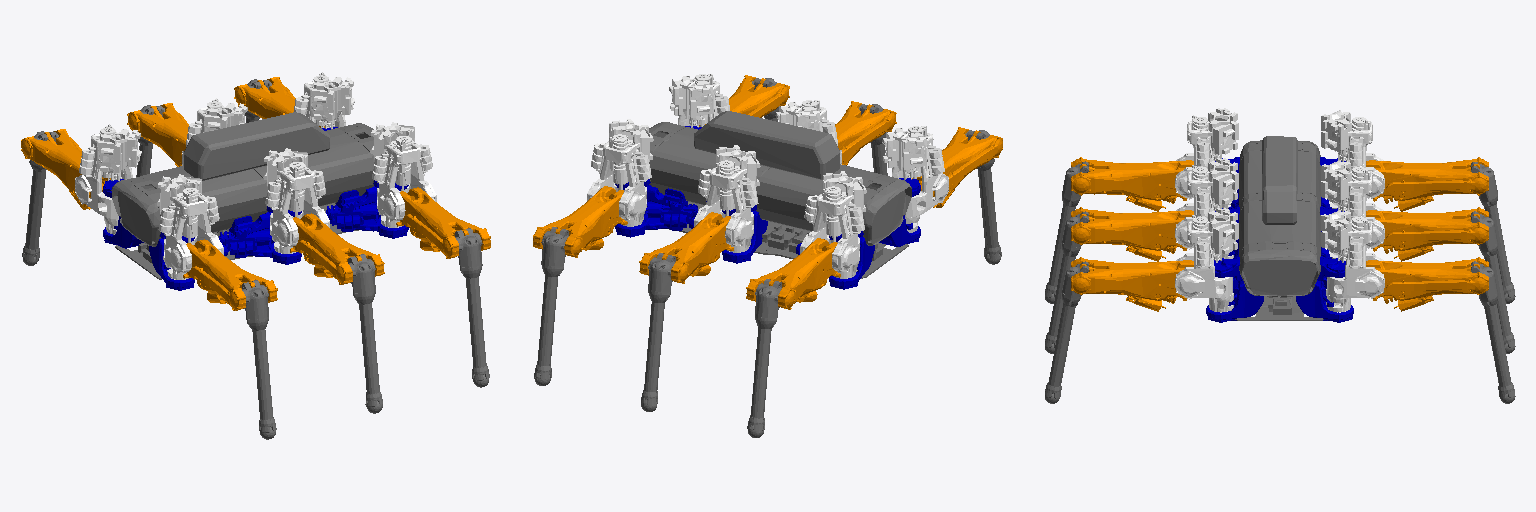
--- Render facts (derived) ---
The picture shows the robot from 3 angles, left to right: view 1: azimuth 30°, elevation 25°; view 2: azimuth 150°, elevation 25°; view 3: azimuth 270°, elevation 25°; orthographic projection.
Model DSH1 with 32 links and 31 joints (18 revolute, 13 fixed), rooted at base_link, posed joints at zero except 6 at the middle of their limits (AR_tibia_joint = 1.4, AL_tibia_joint = 1.4, BR_tibia_joint = 1.4, BL_tibia_joint = 1.4, CR_tibia_joint = 1.4, CL_tibia_joint = 1.4).
Visible links, largest first — view 1: body_link, CR_coxa_link, BR_coxa_link, AR_coxa_link, CL_coxa_link, BR_femur_link, AR_femur_link, CR_femur_link, AR_tibia_link, CR_tibia_link, BR_tibia_link, AL_coxa_link (+10 smaller); view 2: body_link, CL_coxa_link, BL_coxa_link, AL_coxa_link, CR_coxa_link, AL_femur_link, BL_femur_link, CL_femur_link, AL_tibia_link, BL_tibia_link, CL_tibia_link, AR_coxa_link (+10 smaller); view 3: body_link, AR_coxa_link, AL_coxa_link, AR_femur_link, CR_femur_link, BR_femur_link, AL_femur_link, CL_femur_link, BL_femur_link, BR_coxa_link, CR_coxa_link, CL_coxa_link (+9 smaller).
Boxes of the visible links, left/top/right/bottom form: body_link: left=111, top=112, right=374, bottom=279; CR_coxa_link: left=157, top=174, right=223, bottom=279; BR_coxa_link: left=263, top=148, right=329, bottom=253; AR_coxa_link: left=370, top=122, right=436, bottom=227; CL_coxa_link: left=75, top=124, right=141, bottom=234; BR_femur_link: left=290, top=213, right=384, bottom=284; AR_femur_link: left=396, top=187, right=490, bottom=258; CR_femur_link: left=183, top=239, right=277, bottom=310; AR_tibia_link: left=455, top=228, right=489, bottom=387; CR_tibia_link: left=242, top=280, right=276, bottom=438; BR_tibia_link: left=348, top=254, right=382, bottom=413; AL_coxa_link: left=294, top=72, right=354, bottom=128; body_link: left=649, top=111, right=911, bottom=278; CL_coxa_link: left=800, top=171, right=866, bottom=278; BL_coxa_link: left=694, top=145, right=760, bottom=252; AL_coxa_link: left=587, top=119, right=653, bottom=226; CR_coxa_link: left=882, top=126, right=948, bottom=232; AL_femur_link: left=533, top=186, right=627, bottom=257; BL_femur_link: left=639, top=212, right=733, bottom=283; CL_femur_link: left=746, top=238, right=840, bottom=309; AL_tibia_link: left=534, top=227, right=568, bottom=385; BL_tibia_link: left=641, top=253, right=675, bottom=411; CL_tibia_link: left=747, top=279, right=781, bottom=437; AR_coxa_link: left=669, top=74, right=729, bottom=127; body_link: left=1235, top=136, right=1323, bottom=320; AR_coxa_link: left=1175, top=208, right=1238, bottom=312; AL_coxa_link: left=1321, top=210, right=1384, bottom=312; AR_femur_link: left=1071, top=257, right=1193, bottom=311; CR_femur_link: left=1071, top=157, right=1193, bottom=211; BR_femur_link: left=1071, top=207, right=1193, bottom=261; AL_femur_link: left=1366, top=257, right=1488, bottom=311; CL_femur_link: left=1366, top=157, right=1488, bottom=211; BL_femur_link: left=1366, top=207, right=1488, bottom=261; BR_coxa_link: left=1175, top=158, right=1238, bottom=258; CR_coxa_link: left=1175, top=108, right=1238, bottom=208; CL_coxa_link: left=1321, top=110, right=1384, bottom=208.
Size in the robot's own frame: 0.7669 by 1.2 by 0.5363 metres.
Meshes: 7 distinct files referenced, 25 mesh visuals loaded (7 Collada DAE).

URDF robot description (DSH1):
<?xml version="1.0" ?>
<!-- =================================================================================== -->
<!-- |    This document was autogenerated by xacro from apptronik_minimal.xacro        | -->
<!-- |    EDITING THIS FILE BY HAND IS NOT RECOMMENDED                                 | -->
<!-- =================================================================================== -->
<!-- Written by Ryan Steindl <[email redacted]> -->
<!-- August 2018 -->
<!-- data61, CSIRO (AU) -->
<!-- Note: order of includes matters! -->
<robot name="DSH1" xmlns:xacro="http://www.ros.org/wiki/xacro">
  <!-- Material colorization not working like desired, check out: -->
  <!-- http://gazebosim.org/tutorials/?tut=ros_urdf#Materials:Usingpropercolorsandtextures -->
  <!-- or -->
  <!-- https://bitbucket.org/osrf/gazebo/src/default/media/materials/scripts/gazebo.material?fileviewer=file-view-default -->
  <!-- 	<xacro:property name="pi" value="3.14159" /> -->
  <!-- Main body parameters -->
  <!-- body coxa link parameters -->
  <gazebo>
    <plugin filename="libgazebo_ros_control.so" name="gazebo_ros_control">
      <robotDescription>DSH1_description</robotDescription>
      <robotBaseLink>base_link</robotBaseLink>
      <statePublisherRate>1000.0</statePublisherRate>
    </plugin>
  </gazebo>
  <!-- Main body -->
  <!-- Base -->
  <link name="base_link">
    <inertial>
      <origin rpy="0 0 0" xyz="-0.00131 3e-05 0.07014"/>
      <mass value="0.005"/>
      <inertia ixx="0.0001" ixy="0.0001" ixz="0.0001" iyy="0.0001" iyz="0.0001" izz="0.0001"/>
    </inertial>
  </link>
  <link name="body_link">
    <visual>
      <origin rpy="0 0 0" xyz="0 0 0"/>
      <geometry>
        <mesh filename="package://meshes/ASM_DSH1_Body.dae"/>
      </geometry>
      <material name="grey">
        <color rgba="0.5 0.5 0.5 1"/>
      </material>
    </visual>
    <collision>
      <origin rpy="0 0 0" xyz="0 0 0.06"/>
      <geometry>
        <box size="0.7 0.24 0.12"/>
        <!--<mesh filename="${meshes_path}/ASM_Amazon_Body.dae" />-->
      </geometry>
    </collision>
    <inertial>
      <origin rpy="0 0 0" xyz="-0.00131 3e-05 0.07014"/>
      <mass value="7.6369"/>
      <inertia ixx="0.18873809131" ixy="-0.002190442" ixz="-0.00039570904" iyy="0.2495218632" iyz="-3.738463e-05" izz="0.1889091132"/>
    </inertial>
  </link>
  <joint name="body_joint" type="fixed">
    <parent link="base_link"/>
    <child link="body_link"/>
  </joint>
  <gazebo reference="body_link">
    <mu1>1.6</mu1>
    <mu2>1.6</mu2>
    <kp>1000000.0</kp>
    <kd>100.0</kd>
    <material>Gazebo/Grey</material>
    <selfCollide>True</selfCollide>
    <gravity>True</gravity>
  </gazebo>
  <!-- Body Coxa link -->
  <link name="AR_body_coxa_link">
    <visual>
      <origin rpy="0 0 0" xyz="0 0 0"/>
      <geometry>
        <!-- Normal corner configuration (AR & CL) -->
        <mesh filename="package://meshes/ASM_Body_Coxa_AR.dae"/>
      </geometry>
      <material name="blue">
        <color rgba="0 0 .8 1"/>
      </material>
    </visual>
    <collision>
      <origin rpy="0 0 0" xyz="0 -0.075 -0.015"/>
      <geometry>
        <box size="0.060 0.150 0.120"/>
        <!--<mesh filename="${meshes_path}/ASM_Body_Coxa_.dae" />-->
      </geometry>
    </collision>
    <inertial>
      <origin rpy="0 0 0" xyz="-0.05787 -0.09098 -0.02347"/>
      <mass value="1.49648"/>
      <inertia ixx="0.00237058393" ixy="-0.00037947708" ixz="0.00030252466" iyy="0.00404381682" iyz="-0.00014024756" izz="0.00433874382"/>
    </inertial>
  </link>
  <!-- Gazebo properties -->
  <gazebo reference="AR_body_coxa_link">
    <mu1>1.6</mu1>
    <mu2>1.6</mu2>
    <kp>1000000.0</kp>
    <kd>100.0</kd>
    <material>Gazebo/Blue</material>
    <selfCollide>True</selfCollide>
    <gravity>True</gravity>
  </gazebo>
  <!-- Body Coxa joint -->
  <joint name="ARbody_coxa_joint" type="fixed">
    <origin rpy="0 0 0.0" xyz="0.3 -0.0 0.0"/>
    <parent link="base_link"/>
    <child link="AR_body_coxa_link"/>
  </joint>
  <!-- Coxa link -->
  <link name="AR_coxa_link">
    <visual>
      <origin rpy="0 0 0" xyz="0 0 0"/>
      <geometry>
        <mesh filename="package://meshes/ASM_Coxa.dae"/>
      </geometry>
      <material name="white">
        <color rgba="1 1 1 1"/>
      </material>
    </visual>
    <collision>
      <origin rpy="0 0 0" xyz="0.032 0 0.062"/>
      <geometry>
        <box size="0.096 0.115 0.206"/>
        <!--<mesh filename="${meshes_path}/ASM_Coxa.dae" />-->
      </geometry>
    </collision>
    <inertial>
      <origin rpy="0 0 0" xyz="0.02698 -0.00028 0.0643"/>
      <mass value="2.40582"/>
      <inertia ixx="0.01288731354" ixy="-4.028532e-05" ixz="0.00060423369" iyy="0.0125301198" iyz="-4.000394e-05" izz="0.00456150593"/>
    </inertial>
  </link>
  <!-- Gazebo properties -->
  <gazebo reference="AR_coxa_link">
    <mu1>1.6</mu1>
    <mu2>1.6</mu2>
    <kp>1000000.0</kp>
    <kd>100.0</kd>
    <material>Gazebo/White</material>
    <selfCollide>True</selfCollide>
    <gravity>True</gravity>
  </gazebo>
  <!-- Coxa joint -->
  <joint name="AR_coxa_joint" type="revolute">
    <origin rpy="0.0 0.0 4.7123" xyz="0.0 -0.150 0.040"/>
    <parent link="AR_body_coxa_link"/>
    <child link="AR_coxa_link"/>
    <axis xyz="0 0 1"/>
    <!-- Normal corner configuration (AR & CL) -->
    <limit effort="75.0" lower="-0.6" upper="0.9" velocity="11.0"/>
    <dynamics damping="0.5" friction="0.0"/>
  </joint>
  <transmission name="AR_coxa_tran">
    <type>transmission_interface/SimpleTransmission</type>
    <joint name="AR_coxa_joint">
      <hardwareInterface>hardware_interface/EffortJointInterface</hardwareInterface>
    </joint>
    <actuator name="AR_coxa_motor">
      <hardwareInterface>hardware_interface/EffortJointInterface</hardwareInterface>
      <mechanicalReduction>1</mechanicalReduction>
    </actuator>
  </transmission>
  <!-- Femur link -->
  <link name="AR_femur_link">
    <visual>
      <origin rpy="0 0 0" xyz="0 0 0"/>
      <geometry>
        <mesh filename="package://meshes/ASM_Femur.dae"/>
      </geometry>
      <material name="orange">
        <color rgba="1 0.6 0 1"/>
      </material>
    </visual>
    <collision>
      <origin rpy="0 0 0" xyz="0.120 0.034 0.0"/>
      <geometry>
        <box size="0.240 0.112 0.115"/>
        <!-- <mesh filename="${meshes_path}/ASM_Femur.dae" /> -->
      </geometry>
    </collision>
    <inertial>
      <origin rpy="0 0 0" xyz="0.09968 0.02632 0.00017"/>
      <mass value="1.59736"/>
      <inertia ixx="0.00220546264" ixy="-0.00018851889" ixz="6.874375e-05" iyy="0.00860408815" iyz="-2.201149e-05" izz="0.00924003917"/>
    </inertial>
  </link>
  <!-- Gazebo properties -->
  <gazebo reference="AR_femur_link">
    <mu1>1.6</mu1>
    <mu2>1.6</mu2>
    <kp>1000000.0</kp>
    <kd>100.0</kd>
    <material>Gazebo/Orange</material>
    <selfCollide>True</selfCollide>
    <gravity>True</gravity>
  </gazebo>
  <!-- Femur joint -->
  <joint name="AR_femur_joint" type="revolute">
    <origin rpy="-1.5708 0 0" xyz="0.08 0 0.0"/>
    <parent link="AR_coxa_link"/>
    <child link="AR_femur_link"/>
    <axis xyz="0 0 1"/>
    <limit effort="75.0" lower="-1.1" upper="0.6" velocity="8.0"/>
    <dynamics damping="0.5" friction="0.0"/>
  </joint>
  <transmission name="AR_femur_tran">
    <type>transmission_interface/SimpleTransmission</type>
    <joint name="AR_femur_joint">
      <hardwareInterface>hardware_interface/EffortJointInterface</hardwareInterface>
    </joint>
    <actuator name="AR_femur_motor">
      <hardwareInterface>hardware_interface/EffortJointInterface</hardwareInterface>
      <mechanicalReduction>1</mechanicalReduction>
    </actuator>
  </transmission>
  <!-- Tibia link -->
  <link name="AR_tibia_link">
    <visual>
      <origin rpy="0 0 0" xyz="0 0 0"/>
      <geometry>
        <mesh filename="package://meshes/ASM_Tibia.dae"/>
      </geometry>
      <material name="grey">
        <color rgba="0.5 0.5 0.5 1"/>
      </material>
    </visual>
    <collision name="AR_tibia_link_collision">
      <origin rpy="0 1.5708 0" xyz="0.164 -0.015 0"/>
      <geometry>
        <cylinder length="0.244" radius="0.016"/>
        <!--<mesh filename="${meshes_path}/ASM_Tibia.dae" />-->
      </geometry>
    </collision>
    <inertial>
      <origin rpy="0 0 0" xyz="0.0675 -0.00776 0.00154"/>
      <mass value="0.4159"/>
      <inertia ixx="0.00040546855" ixy="-0.00020546604" ixz="-4.283075e-05" iyy="0.00584163406" iyz="4.84805e-06" izz="0.00560713232"/>
    </inertial>
  </link>
  <!-- Gazebo properties -->
  <gazebo reference="AR_tibia_link">
    <mu1>1.6</mu1>
    <mu2>1.6</mu2>
    <kp>1000000.0</kp>
    <kd>100.0</kd>
    <material>Gazebo/Grey</material>
    <!-- 			<selfCollide>True</selfCollide> -->
    <!-- 			<gravity>True</gravity> -->
  </gazebo>
  <!-- Tibia joint -->
  <joint name="AR_tibia_joint" type="revolute">
    <origin rpy="0 0 0" xyz="0.275 0 0"/>
    <parent link="AR_femur_link"/>
    <child link="AR_tibia_link"/>
    <axis xyz="0 0 1"/>
    <limit effort="75.0" lower="0.4" upper="2.4" velocity="11.0"/>
    <dynamics damping="0.5" friction="0.0"/>
  </joint>
  <transmission name="AR_tibia_tran">
    <type>transmission_interface/SimpleTransmission</type>
    <joint name="AR_tibia_joint">
      <hardwareInterface>hardware_interface/EffortJointInterface</hardwareInterface>
    </joint>
    <actuator name="AR_tibia_motor">
      <hardwareInterface>hardware_interface/EffortJointInterface</hardwareInterface>
      <mechanicalReduction>1</mechanicalReduction>
    </actuator>
  </transmission>
  <!-- Foot link, use sphere for enhancening collision properties, speeds up simulation! -->
  <link name="AR_foot_link">
    <visual>
      <geometry>
        <!--<mesh filename="${meshes_path}/AL_foot_link.dae" />-->
        <sphere radius="0.02"/>
        <!-- <sphere radius="0.03"/> -->
        <!-- <box size="0.05, 0.05, 0.05"/> -->
        <!-- <cylinder length="0.16" radius="0.035"/> -->
      </geometry>
      <origin rpy="0 0 0" xyz="0 0 0"/>
      <material name="grey">
        <color rgba="0.5 0.5 0.5 1"/>
      </material>
    </visual>
    <collision name="AR_foot_link_collision">
      <geometry>
        <sphere radius="0.02"/>
        <!-- <sphere radius="0.03"/> -->
        <!-- <box size="0.05, 0.05, 0.05"/> -->
        <!-- <cylinder length="0.16" radius="0.035"/> -->
      </geometry>
      <origin rpy="0 0 0" xyz="0 0 0"/>
    </collision>
    <inertial>
      <origin rpy="0 0 0" xyz="0 0 0"/>
      <mass value="0.0258"/>
      <inertia ixx="0" ixy="0" ixz="0" iyy="0" iyz="0" izz="0"/>
    </inertial>
  </link>
  <!-- Gazebo properties -->
  <gazebo reference="AR_foot_link">
    <mu1>1.6</mu1>
    <mu2>1.6</mu2>
    <kp>1000000.0</kp>
    <kd>100.0</kd>
    <material>Gazebo/Grey</material>
    <!-- 			<selfCollide>True</selfCollide> -->
    <!-- 			<gravity>True</gravity> -->
  </gazebo>
  <!-- Foot joint -->
  <joint name="AR_foot_joint" type="fixed">
    <!-- old without optoforce sensors xyz="1.521 0.12 0" -->
    <!-- new with optoforce sensors xyz="1.565 0.12 0" -->
    <origin rpy="0 0 0" xyz="0.343 -0.015 0"/>
    <parent link="AR_tibia_link"/>
    <child link="AR_foot_link"/>
    <axis xyz="0 0 0"/>
  </joint>
  <!-- Body Coxa link -->
  <link name="AL_body_coxa_link">
    <visual>
      <origin rpy="0 0 0" xyz="0 0 0"/>
      <geometry>
        <!-- Mirrored corner configuration (AL & CR) -->
        <mesh filename="package://meshes/ASM_Body_Coxa_CR.dae"/>
      </geometry>
      <material name="blue">
        <color rgba="0 0 .8 1"/>
      </material>
    </visual>
    <collision>
      <origin rpy="0 0 0" xyz="0 -0.075 -0.015"/>
      <geometry>
        <box size="0.060 0.150 0.120"/>
        <!--<mesh filename="${meshes_path}/ASM_Body_Coxa_.dae" />-->
      </geometry>
    </collision>
    <inertial>
      <origin rpy="0 0 0" xyz="0.05785 -0.09052 -0.0229"/>
      <mass value="1.49649"/>
      <inertia ixx="0.0023650205" ixy="0.0003700191" ixz="-0.00026263152" iyy="0.00404922506" iyz="-0.00013920303" izz="0.00435167001"/>
    </inertial>
  </link>
  <!-- Gazebo properties -->
  <gazebo reference="AL_body_coxa_link">
    <mu1>1.6</mu1>
    <mu2>1.6</mu2>
    <kp>1000000.0</kp>
    <kd>100.0</kd>
    <material>Gazebo/Blue</material>
    <selfCollide>True</selfCollide>
    <gravity>True</gravity>
  </gazebo>
  <!-- Body Coxa joint -->
  <joint name="ALbody_coxa_joint" type="fixed">
    <origin rpy="0 0 3.1416" xyz="0.3 0.0 0.0"/>
    <parent link="base_link"/>
    <child link="AL_body_coxa_link"/>
  </joint>
  <!-- Coxa link -->
  <link name="AL_coxa_link">
    <visual>
      <origin rpy="0 0 0" xyz="0 0 0"/>
      <geometry>
        <mesh filename="package://meshes/ASM_Coxa.dae"/>
      </geometry>
      <material name="white">
        <color rgba="1 1 1 1"/>
      </material>
    </visual>
    <collision>
      <origin rpy="0 0 0" xyz="0.032 0 0.062"/>
      <geometry>
        <box size="0.096 0.115 0.206"/>
        <!--<mesh filename="${meshes_path}/ASM_Coxa.dae" />-->
      </geometry>
    </collision>
    <inertial>
      <origin rpy="0 0 0" xyz="0.02698 -0.00028 0.0643"/>
      <mass value="2.40582"/>
      <inertia ixx="0.01288731354" ixy="-4.028532e-05" ixz="0.00060423369" iyy="0.0125301198" iyz="-4.000394e-05" izz="0.00456150593"/>
    </inertial>
  </link>
  <!-- Gazebo properties -->
  <gazebo reference="AL_coxa_link">
    <mu1>1.6</mu1>
    <mu2>1.6</mu2>
    <kp>1000000.0</kp>
    <kd>100.0</kd>
    <material>Gazebo/White</material>
    <selfCollide>True</selfCollide>
    <gravity>True</gravity>
  </gazebo>
  <!-- Coxa joint -->
  <joint name="AL_coxa_joint" type="revolute">
    <origin rpy="0.0 0.0 4.7123" xyz="0.0 -0.150 0.040"/>
    <parent link="AL_body_coxa_link"/>
    <child link="AL_coxa_link"/>
    <axis xyz="0 0 1"/>
    <!-- Mirrored corner configuration (AL & CR) -->
    <limit effort="75.0" lower="-0.9" upper="0.6" velocity="11.0"/>
    <dynamics damping="0.5" friction="0.0"/>
  </joint>
  <transmission name="AL_coxa_tran">
    <type>transmission_interface/SimpleTransmission</type>
    <joint name="AL_coxa_joint">
      <hardwareInterface>hardware_interface/EffortJointInterface</hardwareInterface>
    </joint>
    <actuator name="AL_coxa_motor">
      <hardwareInterface>hardware_interface/EffortJointInterface</hardwareInterface>
      <mechanicalReduction>1</mechanicalReduction>
    </actuator>
  </transmission>
  <!-- Femur link -->
  <link name="AL_femur_link">
    <visual>
      <origin rpy="0 0 0" xyz="0 0 0"/>
      <geometry>
        <mesh filename="package://meshes/ASM_Femur.dae"/>
      </geometry>
      <material name="orange">
        <color rgba="1 0.6 0 1"/>
      </material>
    </visual>
    <collision>
      <origin rpy="0 0 0" xyz="0.120 0.034 0.0"/>
      <geometry>
        <box size="0.240 0.112 0.115"/>
        <!-- <mesh filename="${meshes_path}/ASM_Femur.dae" /> -->
      </geometry>
    </collision>
    <inertial>
      <origin rpy="0 0 0" xyz="0.09968 0.02632 0.00017"/>
      <mass value="1.59736"/>
      <inertia ixx="0.00220546264" ixy="-0.00018851889" ixz="6.874375e-05" iyy="0.00860408815" iyz="-2.201149e-05" izz="0.00924003917"/>
    </inertial>
  </link>
  <!-- Gazebo properties -->
  <gazebo reference="AL_femur_link">
    <mu1>1.6</mu1>
    <mu2>1.6</mu2>
    <kp>1000000.0</kp>
    <kd>100.0</kd>
    <material>Gazebo/Orange</material>
    <selfCollide>True</selfCollide>
    <gravity>True</gravity>
  </gazebo>
  <!-- Femur joint -->
  <joint name="AL_femur_joint" type="revolute">
    <origin rpy="-1.5708 0 0" xyz="0.08 0 0.0"/>
    <parent link="AL_coxa_link"/>
    <child link="AL_femur_link"/>
    <axis xyz="0 0 1"/>
    <limit effort="75.0" lower="-1.1" upper="0.6" velocity="8.0"/>
    <dynamics damping="0.5" friction="0.0"/>
  </joint>
  <transmission name="AL_femur_tran">
    <type>transmission_interface/SimpleTransmission</type>
    <joint name="AL_femur_joint">
      <hardwareInterface>hardware_interface/EffortJointInterface</hardwareInterface>
    </joint>
    <actuator name="AL_femur_motor">
      <hardwareInterface>hardware_interface/EffortJointInterface</hardwareInterface>
      <mechanicalReduction>1</mechanicalReduction>
    </actuator>
  </transmission>
  <!-- Tibia link -->
  <link name="AL_tibia_link">
    <visual>
      <origin rpy="0 0 0" xyz="0 0 0"/>
      <geometry>
        <mesh filename="package://meshes/ASM_Tibia.dae"/>
      </geometry>
      <material name="grey">
        <color rgba="0.5 0.5 0.5 1"/>
      </material>
    </visual>
    <collision name="AL_tibia_link_collision">
      <origin rpy="0 1.5708 0" xyz="0.164 -0.015 0"/>
      <geometry>
        <cylinder length="0.244" radius="0.016"/>
        <!--<mesh filename="${meshes_path}/ASM_Tibia.dae" />-->
      </geometry>
    </collision>
    <inertial>
      <origin rpy="0 0 0" xyz="0.0675 -0.00776 0.00154"/>
      <mass value="0.4159"/>
      <inertia ixx="0.00040546855" ixy="-0.00020546604" ixz="-4.283075e-05" iyy="0.00584163406" iyz="4.84805e-06" izz="0.00560713232"/>
    </inertial>
  </link>
  <!-- Gazebo properties -->
  <gazebo reference="AL_tibia_link">
    <mu1>1.6</mu1>
    <mu2>1.6</mu2>
    <kp>1000000.0</kp>
    <kd>100.0</kd>
    <material>Gazebo/Grey</material>
    <!-- 			<selfCollide>True</selfCollide> -->
    <!-- 			<gravity>True</gravity> -->
  </gazebo>
  <!-- Tibia joint -->
  <joint name="AL_tibia_joint" type="revolute">
    <origin rpy="0 0 0" xyz="0.275 0 0"/>
    <parent link="AL_femur_link"/>
    <child link="AL_tibia_link"/>
    <axis xyz="0 0 1"/>
    <limit effort="75.0" lower="0.4" upper="2.4" velocity="11.0"/>
    <dynamics damping="0.5" friction="0.0"/>
  </joint>
  <transmission name="AL_tibia_tran">
    <type>transmission_interface/SimpleTransmission</type>
    <joint name="AL_tibia_joint">
      <hardwareInterface>hardware_interface/EffortJointInterface</hardwareInterface>
    </joint>
    <actuator name="AL_tibia_motor">
      <hardwareInterface>hardware_interface/EffortJointInterface</hardwareInterface>
      <mechanicalReduction>1</mechanicalReduction>
    </actuator>
  </transmission>
  <!-- Foot link, use sphere for enhancening collision properties, speeds up simulation! -->
  <link name="AL_foot_link">
    <visual>
      <geometry>
        <!--<mesh filename="${meshes_path}/AL_foot_link.dae" />-->
        <sphere radius="0.02"/>
        <!-- <sphere radius="0.03"/> -->
        <!-- <box size="0.05, 0.05, 0.05"/> -->
        <!-- <cylinder length="0.16" radius="0.035"/> -->
      </geometry>
      <origin rpy="0 0 0" xyz="0 0 0"/>
      <material name="grey">
        <color rgba="0.5 0.5 0.5 1"/>
      </material>
    </visual>
    <collision name="AL_foot_link_collision">
      <geometry>
        <sphere radius="0.02"/>
        <!-- <sphere radius="0.03"/> -->
        <!-- <box size="0.05, 0.05, 0.05"/> -->
        <!-- <cylinder length="0.16" radius="0.035"/> -->
      </geometry>
      <origin rpy="0 0 0" xyz="0 0 0"/>
    </collision>
    <inertial>
      <origin rpy="0 0 0" xyz="0 0 0"/>
      <mass value="0.0258"/>
      <inertia ixx="0" ixy="0" ixz="0" iyy="0" iyz="0" izz="0"/>
    </inertial>
  </link>
  <!-- Gazebo properties -->
  <gazebo reference="AL_foot_link">
    <mu1>1.6</mu1>
    <mu2>1.6</mu2>
    <kp>1000000.0</kp>
    <kd>100.0</kd>
    <material>Gazebo/Grey</material>
    <!-- 			<selfCollide>True</selfCollide> -->
    <!-- 			<gravity>True</gravity> -->
  </gazebo>
  <!-- Foot joint -->
  <joint name="AL_foot_joint" type="fixed">
    <!-- old without optoforce sensors xyz="1.521 0.12 0" -->
    <!-- new with optoforce sensors xyz="1.565 0.12 0" -->
    <origin rpy="0 0 0" xyz="0.343 -0.015 0"/>
    <parent link="AL_tibia_link"/>
    <child link="AL_foot_link"/>
    <axis xyz="0 0 0"/>
  </joint>
  <!-- Body Coxa link -->
  <link name="BR_body_coxa_link">
    <visual>
      <origin rpy="0 0 0" xyz="0 0 0"/>
      <geometry>
        <!-- Normal configuration (BR) -->
        <mesh filename="package://meshes/ASM_Body_Coxa_BR.dae"/>
      </geometry>
      <material name="blue">
        <color rgba="0 0 .8 1"/>
      </material>
    </visual>
    <collision>
      <origin rpy="0 0 0" xyz="0 -0.075 -0.015"/>
      <geometry>
        <box size="0.060 0.150 0.120"/>
        <!--<mesh filename="${meshes_path}/ASM_Body_Coxa_.dae" />-->
      </geometry>
    </collision>
    <inertial>
      <origin rpy="0 0 0" xyz="-0.05784 -0.09097 -0.02347"/>
      <mass value="1.49648"/>
      <inertia ixx="0.00236949742" ixy="-0.00038113993" ixz="0.00030648174" iyy="0.00404931192" iyz="-0.00013940059" izz="0.00434304717"/>
    </inertial>
  </link>
  <!-- Gazebo properties -->
  <gazebo reference="BR_body_coxa_link">
    <mu1>1.6</mu1>
    <mu2>1.6</mu2>
    <kp>1000000.0</kp>
    <kd>100.0</kd>
    <material>Gazebo/Blue</material>
    <selfCollide>True</selfCollide>
    <gravity>True</gravity>
  </gazebo>
  <!-- Body Coxa joint -->
  <joint name="BRbody_coxa_joint" type="fixed">
    <origin rpy="0 0 0.0" xyz="0.0 -0.0 0.0"/>
    <parent link="base_link"/>
    <child link="BR_body_coxa_link"/>
  </joint>
  <!-- Coxa link -->
  <link name="BR_coxa_link">
    <visual>
      <origin rpy="0 0 0" xyz="0 0 0"/>
      <geometry>
        <mesh filename="package://meshes/ASM_Coxa.dae"/>
      </geometry>
      <material name="white">
        <color rgba="1 1 1 1"/>
      </material>
    </visual>
    <collision>
      <origin rpy="0 0 0" xyz="0.032 0 0.062"/>
      <geometry>
        <box size="0.096 0.115 0.206"/>
        <!--<mesh filename="${meshes_path}/ASM_Coxa.dae" />-->
      </geometry>
    </collision>
    <inertial>
      <origin rpy="0 0 0" xyz="0.02698 -0.00028 0.0643"/>
      <mass value="2.40582"/>
      <inertia ixx="0.01288731354" ixy="-4.028532e-05" ixz="0.00060423369" iyy="0.0125301198" iyz="-4.000394e-05" izz="0.00456150593"/>
    </inertial>
  </link>
  <!-- Gazebo properties -->
  <gazebo reference="BR_coxa_link">
    <mu1>1.6</mu1>
    <mu2>1.6</mu2>
    <kp>1000000.0</kp>
    <kd>100.0</kd>
    <material>Gazebo/White</material>
    <selfCollide>True</selfCollide>
    <gravity>True</gravity>
  </gazebo>
  <!-- Coxa joint -->
  <joint name="BR_coxa_joint" type="revolute">
    <origin rpy="0.0 0.0 4.7123" xyz="0.0 -0.150 0.040"/>
    <parent link="BR_body_coxa_link"/>
    <child link="BR_coxa_link"/>
    <axis xyz="0 0 1"/>
    <!-- Normal configuration (BR) -->
    <limit effort="75.0" lower="-0.9" upper="0.9" velocity="11.0"/>
    <dynamics damping="0.5" friction="0.0"/>
  </joint>
  <transmission name="BR_coxa_tran">
    <type>transmission_interface/SimpleTransmission</type>
    <joint name="BR_coxa_joint">
      <hardwareInterface>hardware_interface/EffortJointInterface</hardwareInterface>
    </joint>
    <actuator name="BR_coxa_motor">
      <hardwareInterface>hardware_interface/EffortJointInterface</hardwareInterface>
      <mechanicalReduction>1</mechanicalReduction>
    </actuator>
  </transmission>
  <!-- Femur link -->
  <link name="BR_femur_link">
    <visual>
      <origin rpy="0 0 0" xyz="0 0 0"/>
      <geometry>
        <mesh filename="package://meshes/ASM_Femur.dae"/>
      </geometry>
      <material name="orange">
        <color rgba="1 0.6 0 1"/>
      </material>
    </visual>
    <collision>
      <origin rpy="0 0 0" xyz="0.120 0.034 0.0"/>
      <geometry>
        <box size="0.240 0.112 0.115"/>
        <!-- <mesh filename="${meshes_path}/ASM_Femur.dae" /> -->
      </geometry>
    </collision>
    <inertial>
      <origin rpy="0 0 0" xyz="0.09968 0.02632 0.00017"/>
      <mass value="1.59736"/>
      <inertia ixx="0.00220546264" ixy="-0.00018851889" ixz="6.874375e-05" iyy="0.00860408815" iyz="-2.201149e-05" izz="0.00924003917"/>
    </inertial>
  </link>
  <!-- Gazebo properties -->
  <gazebo reference="BR_femur_link">
    <mu1>1.6</mu1>
    <mu2>1.6</mu2>
    <kp>1000000.0</kp>
    <kd>100.0</kd>
    <material>Gazebo/Orange</material>
    <selfCollide>True</selfCollide>
    <gravity>True</gravity>
  </gazebo>
  <!-- Femur joint -->
  <joint name="BR_femur_joint" type="revolute">
    <origin rpy="-1.5708 0 0" xyz="0.08 0 0.0"/>
    <parent link="BR_coxa_link"/>
    <child link="BR_femur_link"/>
    <axis xyz="0 0 1"/>
    <limit effort="75.0" lower="-1.1" upper="0.6" velocity="8.0"/>
    <dynamics damping="0.5" friction="0.0"/>
  </joint>
  <transmission name="BR_femur_tran">
    <type>transmission_interface/SimpleTransmission</type>
    <joint name="BR_femur_joint">
      <hardwareInterface>hardware_interface/EffortJointInterface</hardwareInterface>
    </joint>
    <actuator name="BR_femur_motor">
      <hardwareInterface>hardware_interface/EffortJointInterface</hardwareInterface>
      <mechanicalReduction>1</mechanicalReduction>
    </actuator>
  </transmission>
  <!-- Tibia link -->
  <link name="BR_tibia_link">
    <visual>
      <origin rpy="0 0 0" xyz="0 0 0"/>
      <geometry>
        <mesh filename="package://meshes/ASM_Tibia.dae"/>
      </geometry>
      <material name="grey">
        <color rgba="0.5 0.5 0.5 1"/>
      </material>
    </visual>
    <collision name="BR_tibia_link_collision">
      <origin rpy="0 1.5708 0" xyz="0.164 -0.015 0"/>
      <geometry>
        <cylinder length="0.244" radius="0.016"/>
        <!--<mesh filename="${meshes_path}/ASM_Tibia.dae" />-->
      </geometry>
    </collision>
    <inertial>
      <origin rpy="0 0 0" xyz="0.0675 -0.00776 0.00154"/>
      <mass value="0.4159"/>
      <inertia ixx="0.00040546855" ixy="-0.00020546604" ixz="-4.283075e-05" iyy="0.00584163406" iyz="4.84805e-06" izz="0.00560713232"/>
    </inertial>
  </link>
  <!-- Gazebo properties -->
  <gazebo reference="BR_tibia_link">
    <mu1>1.6</mu1>
    <mu2>1.6</mu2>
    <kp>1000000.0</kp>
    <kd>100.0</kd>
    <material>Gazebo/Grey</material>
    <!-- 			<selfCollide>True</selfCollide> -->
    <!-- 			<gravity>True</gravity> -->
  </gazebo>
  <!-- Tibia joint -->
  <joint name="BR_tibia_joint" type="revolute">
    <origin rpy="0 0 0" xyz="0.275 0 0"/>
    <parent link="BR_femur_link"/>
    <child link="BR_tibia_link"/>
    <axis xyz="0 0 1"/>
    <limit effort="75.0" lower="0.4" upper="2.4" velocity="11.0"/>
    <dynamics damping="0.5" friction="0.0"/>
  </joint>
  <transmission name="BR_tibia_tran">
    <type>transmission_interface/SimpleTransmission</type>
    <joint name="BR_tibia_joint">
      <hardwareInterface>hardware_interface/EffortJointInterface</hardwareInterface>
    </joint>
    <actuator name="BR_tibia_motor">
      <hardwareInterface>hardware_interface/EffortJointInterface</hardwareInterface>
      <mechanicalReduction>1</mechanicalReduction>
    </actuator>
  </transmission>
  <!-- Foot link, use sphere for enhancening collision properties, speeds up simulation! -->
  <link name="BR_foot_link">
    <visual>
      <geometry>
        <!--<mesh filename="${meshes_path}/AL_foot_link.dae" />-->
        <sphere radius="0.02"/>
        <!-- <sphere radius="0.03"/> -->
        <!-- <box size="0.05, 0.05, 0.05"/> -->
        <!-- <cylinder length="0.16" radius="0.035"/> -->
      </geometry>
      <origin rpy="0 0 0" xyz="0 0 0"/>
      <material name="grey">
        <color rgba="0.5 0.5 0.5 1"/>
      </material>
    </visual>
    <collision name="BR_foot_link_collision">
      <geometry>
        <sphere radius="0.02"/>
        <!-- <sphere radius="0.03"/> -->
        <!-- <box size="0.05, 0.05, 0.05"/> -->
        <!-- <cylinder length="0.16" radius="0.035"/> -->
      </geometry>
      <origin rpy="0 0 0" xyz="0 0 0"/>
    </collision>
    <inertial>
      <origin rpy="0 0 0" xyz="0 0 0"/>
      <mass value="0.0258"/>
      <inertia ixx="0" ixy="0" ixz="0" iyy="0" iyz="0" izz="0"/>
    </inertial>
  </link>
  <!-- Gazebo properties -->
  <gazebo reference="BR_foot_link">
    <mu1>1.6</mu1>
    <mu2>1.6</mu2>
    <kp>1000000.0</kp>
    <kd>100.0</kd>
    <material>Gazebo/Grey</material>
    <!-- 			<selfCollide>True</selfCollide> -->
    <!-- 			<gravity>True</gravity> -->
  </gazebo>
  <!-- Foot joint -->
  <joint name="BR_foot_joint" type="fixed">
    <!-- old without optoforce sensors xyz="1.521 0.12 0" -->
    <!-- new with optoforce sensors xyz="1.565 0.12 0" -->
    <origin rpy="0 0 0" xyz="0.343 -0.015 0"/>
    <parent link="BR_tibia_link"/>
    <child link="BR_foot_link"/>
    <axis xyz="0 0 0"/>
  </joint>
  <!-- Body Coxa link -->
  <link name="BL_body_coxa_link">
    <visual>
      <origin rpy="0 0 0" xyz="0 0 0"/>
      <geometry>
        <!-- Normal configuration (BR) -->
        <mesh filename="package://meshes/ASM_Body_Coxa_BR.dae"/>
      </geometry>
      <material name="blue">
        <color rgba="0 0 .8 1"/>
      </material>
    </visual>
    <collision>
      <origin rpy="0 0 0" xyz="0 -0.075 -0.015"/>
      <geometry>
        <box size="0.060 0.150 0.120"/>
        <!--<mesh filename="${meshes_path}/ASM_Body_Coxa_.dae" />-->
      </geometry>
    </collision>
    <inertial>
      <origin rpy="0 0 0" xyz="-0.05784 -0.09097 -0.02347"/>
      <mass value="1.49648"/>
      <inertia ixx="0.00236949742" ixy="-0.00038113993" ixz="0.00030648174" iyy="0.00404931192" iyz="-0.00013940059" izz="0.00434304717"/>
    </inertial>
  </link>
  <!-- Gazebo properties -->
  <gazebo reference="BL_body_coxa_link">
    <mu1>1.6</mu1>
    <mu2>1.6</mu2>
    <kp>1000000.0</kp>
    <kd>100.0</kd>
    <material>Gazebo/Blue</material>
    <selfCollide>True</selfCollide>
    <gravity>True</gravity>
  </gazebo>
  <!-- Body Coxa joint -->
  <joint name="BLbody_coxa_joint" type="fixed">
    <origin rpy="0 0 3.1416" xyz="0.0 0.0 0.0"/>
    <parent link="base_link"/>
    <child link="BL_body_coxa_link"/>
  </joint>
  <!-- Coxa link -->
  <link name="BL_coxa_link">
    <visual>
      <origin rpy="0 0 0" xyz="0 0 0"/>
      <geometry>
        <mesh filename="package://meshes/ASM_Coxa.dae"/>
      </geometry>
      <material name="white">
        <color rgba="1 1 1 1"/>
      </material>
    </visual>
    <collision>
      <origin rpy="0 0 0" xyz="0.032 0 0.062"/>
      <geometry>
        <box size="0.096 0.115 0.206"/>
        <!--<mesh filename="${meshes_path}/ASM_Coxa.dae" />-->
      </geometry>
    </collision>
    <inertial>
      <origin rpy="0 0 0" xyz="0.02698 -0.00028 0.0643"/>
      <mass value="2.40582"/>
      <inertia ixx="0.01288731354" ixy="-4.028532e-05" ixz="0.00060423369" iyy="0.0125301198" iyz="-4.000394e-05" izz="0.00456150593"/>
    </inertial>
  </link>
  <!-- Gazebo properties -->
  <gazebo reference="BL_coxa_link">
    <mu1>1.6</mu1>
    <mu2>1.6</mu2>
    <kp>1000000.0</kp>
    <kd>100.0</kd>
    <material>Gazebo/White</material>
    <selfCollide>True</selfCollide>
    <gravity>True</gravity>
  </gazebo>
  <!-- Coxa joint -->
  <joint name="BL_coxa_joint" type="revolute">
    <origin rpy="0.0 0.0 4.7123" xyz="0.0 -0.150 0.040"/>
    <parent link="BL_body_coxa_link"/>
    <child link="BL_coxa_link"/>
    <axis xyz="0 0 1"/>
    <!-- Normal configuration (BR) -->
    <limit effort="75.0" lower="-0.9" upper="0.9" velocity="11.0"/>
    <dynamics damping="0.5" friction="0.0"/>
  </joint>
  <transmission name="BL_coxa_tran">
    <type>transmission_interface/SimpleTransmission</type>
    <joint name="BL_coxa_joint">
      <hardwareInterface>hardware_interface/EffortJointInterface</hardwareInterface>
    </joint>
    <actuator name="BL_coxa_motor">
      <hardwareInterface>hardware_interface/EffortJointInterface</hardwareInterface>
      <mechanicalReduction>1</mechanicalReduction>
    </actuator>
  </transmission>
  <!-- Femur link -->
  <link name="BL_femur_link">
    <visual>
      <origin rpy="0 0 0" xyz="0 0 0"/>
      <geometry>
        <mesh filename="package://meshes/ASM_Femur.dae"/>
      </geometry>
      <material name="orange">
        <color rgba="1 0.6 0 1"/>
      </material>
    </visual>
    <collision>
      <origin rpy="0 0 0" xyz="0.120 0.034 0.0"/>
      <geometry>
        <box size="0.240 0.112 0.115"/>
        <!-- <mesh filename="${meshes_path}/ASM_Femur.dae" /> -->
      </geometry>
    </collision>
    <inertial>
      <origin rpy="0 0 0" xyz="0.09968 0.02632 0.00017"/>
      <mass value="1.59736"/>
      <inertia ixx="0.00220546264" ixy="-0.00018851889" ixz="6.874375e-05" iyy="0.00860408815" iyz="-2.201149e-05" izz="0.00924003917"/>
    </inertial>
  </link>
  <!-- Gazebo properties -->
  <gazebo reference="BL_femur_link">
    <mu1>1.6</mu1>
    <mu2>1.6</mu2>
    <kp>1000000.0</kp>
    <kd>100.0</kd>
    <material>Gazebo/Orange</material>
    <selfCollide>True</selfCollide>
    <gravity>True</gravity>
  </gazebo>
  <!-- Femur joint -->
  <joint name="BL_femur_joint" type="revolute">
    <origin rpy="-1.5708 0 0" xyz="0.08 0 0.0"/>
    <parent link="BL_coxa_link"/>
    <child link="BL_femur_link"/>
    <axis xyz="0 0 1"/>
    <limit effort="75.0" lower="-1.1" upper="0.6" velocity="8.0"/>
    <dynamics damping="0.5" friction="0.0"/>
  </joint>
  <transmission name="BL_femur_tran">
    <type>transmission_interface/SimpleTransmission</type>
    <joint name="BL_femur_joint">
      <hardwareInterface>hardware_interface/EffortJointInterface</hardwareInterface>
    </joint>
    <actuator name="BL_femur_motor">
      <hardwareInterface>hardware_interface/EffortJointInterface</hardwareInterface>
      <mechanicalReduction>1</mechanicalReduction>
    </actuator>
  </transmission>
  <!-- Tibia link -->
  <link name="BL_tibia_link">
    <visual>
      <origin rpy="0 0 0" xyz="0 0 0"/>
      <geometry>
        <mesh filename="package://meshes/ASM_Tibia.dae"/>
      </geometry>
      <material name="grey">
        <color rgba="0.5 0.5 0.5 1"/>
      </material>
    </visual>
    <collision name="BL_tibia_link_collision">
      <origin rpy="0 1.5708 0" xyz="0.164 -0.015 0"/>
      <geometry>
        <cylinder length="0.244" radius="0.016"/>
        <!--<mesh filename="${meshes_path}/ASM_Tibia.dae" />-->
      </geometry>
    </collision>
    <inertial>
      <origin rpy="0 0 0" xyz="0.0675 -0.00776 0.00154"/>
      <mass value="0.4159"/>
      <inertia ixx="0.00040546855" ixy="-0.00020546604" ixz="-4.283075e-05" iyy="0.00584163406" iyz="4.84805e-06" izz="0.00560713232"/>
    </inertial>
  </link>
  <!-- Gazebo properties -->
  <gazebo reference="BL_tibia_link">
    <mu1>1.6</mu1>
    <mu2>1.6</mu2>
    <kp>1000000.0</kp>
    <kd>100.0</kd>
    <material>Gazebo/Grey</material>
    <!-- 			<selfCollide>True</selfCollide> -->
    <!-- 			<gravity>True</gravity> -->
  </gazebo>
  <!-- Tibia joint -->
  <joint name="BL_tibia_joint" type="revolute">
    <origin rpy="0 0 0" xyz="0.275 0 0"/>
    <parent link="BL_femur_link"/>
    <child link="BL_tibia_link"/>
    <axis xyz="0 0 1"/>
    <limit effort="75.0" lower="0.4" upper="2.4" velocity="11.0"/>
    <dynamics damping="0.5" friction="0.0"/>
  </joint>
  <transmission name="BL_tibia_tran">
    <type>transmission_interface/SimpleTransmission</type>
    <joint name="BL_tibia_joint">
      <hardwareInterface>hardware_interface/EffortJointInterface</hardwareInterface>
    </joint>
    <actuator name="BL_tibia_motor">
      <hardwareInterface>hardware_interface/EffortJointInterface</hardwareInterface>
      <mechanicalReduction>1</mechanicalReduction>
    </actuator>
  </transmission>
  <!-- Foot link, use sphere for enhancening collision properties, speeds up simulation! -->
  <link name="BL_foot_link">
    <visual>
      <geometry>
        <!--<mesh filename="${meshes_path}/AL_foot_link.dae" />-->
        <sphere radius="0.02"/>
        <!-- <sphere radius="0.03"/> -->
        <!-- <box size="0.05, 0.05, 0.05"/> -->
        <!-- <cylinder length="0.16" radius="0.035"/> -->
      </geometry>
      <origin rpy="0 0 0" xyz="0 0 0"/>
      <material name="grey">
        <color rgba="0.5 0.5 0.5 1"/>
      </material>
    </visual>
    <collision name="BL_foot_link_collision">
      <geometry>
        <sphere radius="0.02"/>
        <!-- <sphere radius="0.03"/> -->
        <!-- <box size="0.05, 0.05, 0.05"/> -->
        <!-- <cylinder length="0.16" radius="0.035"/> -->
      </geometry>
      <origin rpy="0 0 0" xyz="0 0 0"/>
    </collision>
    <inertial>
      <origin rpy="0 0 0" xyz="0 0 0"/>
      <mass value="0.0258"/>
      <inertia ixx="0" ixy="0" ixz="0" iyy="0" iyz="0" izz="0"/>
    </inertial>
  </link>
  <!-- Gazebo properties -->
  <gazebo reference="BL_foot_link">
    <mu1>1.6</mu1>
    <mu2>1.6</mu2>
    <kp>1000000.0</kp>
    <kd>100.0</kd>
    <material>Gazebo/Grey</material>
    <!-- 			<selfCollide>True</selfCollide> -->
    <!-- 			<gravity>True</gravity> -->
  </gazebo>
  <!-- Foot joint -->
  <joint name="BL_foot_joint" type="fixed">
    <!-- old without optoforce sensors xyz="1.521 0.12 0" -->
    <!-- new with optoforce sensors xyz="1.565 0.12 0" -->
    <origin rpy="0 0 0" xyz="0.343 -0.015 0"/>
    <parent link="BL_tibia_link"/>
    <child link="BL_foot_link"/>
    <axis xyz="0 0 0"/>
  </joint>
  &gt;
  
  <!-- Body Coxa link -->
  <link name="CR_body_coxa_link">
    <visual>
      <origin rpy="0 0 0" xyz="0 0 0"/>
      <geometry>
        <!-- Mirrored corner configuration (AL & CR) -->
        <mesh filename="package://meshes/ASM_Body_Coxa_CR.dae"/>
      </geometry>
      <material name="blue">
        <color rgba="0 0 .8 1"/>
      </material>
    </visual>
    <collision>
      <origin rpy="0 0 0" xyz="0 -0.075 -0.015"/>
      <geometry>
        <box size="0.060 0.150 0.120"/>
        <!--<mesh filename="${meshes_path}/ASM_Body_Coxa_.dae" />-->
      </geometry>
    </collision>
    <inertial>
      <origin rpy="0 0 0" xyz="0.05785 -0.09052 -0.0229"/>
      <mass value="1.49649"/>
      <inertia ixx="0.0023650205" ixy="0.0003700191" ixz="-0.00026263152" iyy="0.00404922506" iyz="-0.00013920303" izz="0.00435167001"/>
    </inertial>
  </link>
  <!-- Gazebo properties -->
  <gazebo reference="CR_body_coxa_link">
    <mu1>1.6</mu1>
    <mu2>1.6</mu2>
    <kp>1000000.0</kp>
    <kd>100.0</kd>
    <material>Gazebo/Blue</material>
    <selfCollide>True</selfCollide>
    <gravity>True</gravity>
  </gazebo>
  <!-- Body Coxa joint -->
  <joint name="CRbody_coxa_joint" type="fixed">
    <origin rpy="0 0 0.0" xyz="-0.3 -0.0 0.0"/>
    <parent link="base_link"/>
    <child link="CR_body_coxa_link"/>
  </joint>
  <!-- Coxa link -->
  <link name="CR_coxa_link">
    <visual>
      <origin rpy="0 0 0" xyz="0 0 0"/>
      <geometry>
        <mesh filename="package://meshes/ASM_Coxa.dae"/>
      </geometry>
      <material name="white">
        <color rgba="1 1 1 1"/>
      </material>
    </visual>
    <collision>
      <origin rpy="0 0 0" xyz="0.032 0 0.062"/>
      <geometry>
        <box size="0.096 0.115 0.206"/>
        <!--<mesh filename="${meshes_path}/ASM_Coxa.dae" />-->
      </geometry>
    </collision>
    <inertial>
      <origin rpy="0 0 0" xyz="0.02698 -0.00028 0.0643"/>
      <mass value="2.40582"/>
      <inertia ixx="0.01288731354" ixy="-4.028532e-05" ixz="0.00060423369" iyy="0.0125301198" iyz="-4.000394e-05" izz="0.00456150593"/>
    </inertial>
  </link>
  <!-- Gazebo properties -->
  <gazebo reference="CR_coxa_link">
    <mu1>1.6</mu1>
    <mu2>1.6</mu2>
    <kp>1000000.0</kp>
    <kd>100.0</kd>
    <material>Gazebo/White</material>
    <selfCollide>True</selfCollide>
    <gravity>True</gravity>
  </gazebo>
  <!-- Coxa joint -->
  <joint name="CR_coxa_joint" type="revolute">
    <origin rpy="0.0 0.0 4.7123" xyz="0.0 -0.150 0.040"/>
    <parent link="CR_body_coxa_link"/>
    <child link="CR_coxa_link"/>
    <axis xyz="0 0 1"/>
    <!-- Mirrored corner configuration (AL & CR) -->
    <limit effort="75.0" lower="-0.9" upper="0.6" velocity="11.0"/>
    <dynamics damping="0.5" friction="0.0"/>
  </joint>
  <transmission name="CR_coxa_tran">
    <type>transmission_interface/SimpleTransmission</type>
    <joint name="CR_coxa_joint">
      <hardwareInterface>hardware_interface/EffortJointInterface</hardwareInterface>
    </joint>
    <actuator name="CR_coxa_motor">
      <hardwareInterface>hardware_interface/EffortJointInterface</hardwareInterface>
      <mechanicalReduction>1</mechanicalReduction>
    </actuator>
  </transmission>
  <!-- Femur link -->
  <link name="CR_femur_link">
    <visual>
      <origin rpy="0 0 0" xyz="0 0 0"/>
      <geometry>
        <mesh filename="package://meshes/ASM_Femur.dae"/>
      </geometry>
      <material name="orange">
        <color rgba="1 0.6 0 1"/>
      </material>
    </visual>
    <collision>
      <origin rpy="0 0 0" xyz="0.120 0.034 0.0"/>
      <geometry>
        <box size="0.240 0.112 0.115"/>
        <!-- <mesh filename="${meshes_path}/ASM_Femur.dae" /> -->
      </geometry>
    </collision>
    <inertial>
      <origin rpy="0 0 0" xyz="0.09968 0.02632 0.00017"/>
      <mass value="1.59736"/>
      <inertia ixx="0.00220546264" ixy="-0.00018851889" ixz="6.874375e-05" iyy="0.00860408815" iyz="-2.201149e-05" izz="0.00924003917"/>
    </inertial>
  </link>
  <!-- Gazebo properties -->
  <gazebo reference="CR_femur_link">
    <mu1>1.6</mu1>
    <mu2>1.6</mu2>
    <kp>1000000.0</kp>
    <kd>100.0</kd>
    <material>Gazebo/Orange</material>
    <selfCollide>True</selfCollide>
    <gravity>True</gravity>
  </gazebo>
  <!-- Femur joint -->
  <joint name="CR_femur_joint" type="revolute">
    <origin rpy="-1.5708 0 0" xyz="0.08 0 0.0"/>
    <parent link="CR_coxa_link"/>
    <child link="CR_femur_link"/>
    <axis xyz="0 0 1"/>
    <limit effort="75.0" lower="-1.1" upper="0.6" velocity="8.0"/>
    <dynamics damping="0.5" friction="0.0"/>
  </joint>
  <transmission name="CR_femur_tran">
    <type>transmission_interface/SimpleTransmission</type>
    <joint name="CR_femur_joint">
      <hardwareInterface>hardware_interface/EffortJointInterface</hardwareInterface>
    </joint>
    <actuator name="CR_femur_motor">
      <hardwareInterface>hardware_interface/EffortJointInterface</hardwareInterface>
      <mechanicalReduction>1</mechanicalReduction>
    </actuator>
  </transmission>
  <!-- Tibia link -->
  <link name="CR_tibia_link">
    <visual>
      <origin rpy="0 0 0" xyz="0 0 0"/>
      <geometry>
        <mesh filename="package://meshes/ASM_Tibia.dae"/>
      </geometry>
      <material name="grey">
        <color rgba="0.5 0.5 0.5 1"/>
      </material>
    </visual>
    <collision name="CR_tibia_link_collision">
      <origin rpy="0 1.5708 0" xyz="0.164 -0.015 0"/>
      <geometry>
        <cylinder length="0.244" radius="0.016"/>
        <!--<mesh filename="${meshes_path}/ASM_Tibia.dae" />-->
      </geometry>
    </collision>
    <inertial>
      <origin rpy="0 0 0" xyz="0.0675 -0.00776 0.00154"/>
      <mass value="0.4159"/>
      <inertia ixx="0.00040546855" ixy="-0.00020546604" ixz="-4.283075e-05" iyy="0.00584163406" iyz="4.84805e-06" izz="0.00560713232"/>
    </inertial>
  </link>
  <!-- Gazebo properties -->
  <gazebo reference="CR_tibia_link">
    <mu1>1.6</mu1>
    <mu2>1.6</mu2>
    <kp>1000000.0</kp>
    <kd>100.0</kd>
    <material>Gazebo/Grey</material>
    <!-- 			<selfCollide>True</selfCollide> -->
    <!-- 			<gravity>True</gravity> -->
  </gazebo>
  <!-- Tibia joint -->
  <joint name="CR_tibia_joint" type="revolute">
    <origin rpy="0 0 0" xyz="0.275 0 0"/>
    <parent link="CR_femur_link"/>
    <child link="CR_tibia_link"/>
    <axis xyz="0 0 1"/>
    <limit effort="75.0" lower="0.4" upper="2.4" velocity="11.0"/>
    <dynamics damping="0.5" friction="0.0"/>
  </joint>
  <transmission name="CR_tibia_tran">
    <type>transmission_interface/SimpleTransmission</type>
    <joint name="CR_tibia_joint">
      <hardwareInterface>hardware_interface/EffortJointInterface</hardwareInterface>
    </joint>
    <actuator name="CR_tibia_motor">
      <hardwareInterface>hardware_interface/EffortJointInterface</hardwareInterface>
      <mechanicalReduction>1</mechanicalReduction>
    </actuator>
  </transmission>
  <!-- Foot link, use sphere for enhancening collision properties, speeds up simulation! -->
  <link name="CR_foot_link">
    <visual>
      <geometry>
        <!--<mesh filename="${meshes_path}/AL_foot_link.dae" />-->
        <sphere radius="0.02"/>
        <!-- <sphere radius="0.03"/> -->
        <!-- <box size="0.05, 0.05, 0.05"/> -->
        <!-- <cylinder length="0.16" radius="0.035"/> -->
      </geometry>
      <origin rpy="0 0 0" xyz="0 0 0"/>
      <material name="grey">
        <color rgba="0.5 0.5 0.5 1"/>
      </material>
    </visual>
    <collision name="CR_foot_link_collision">
      <geometry>
        <sphere radius="0.02"/>
        <!-- <sphere radius="0.03"/> -->
        <!-- <box size="0.05, 0.05, 0.05"/> -->
        <!-- <cylinder length="0.16" radius="0.035"/> -->
      </geometry>
      <origin rpy="0 0 0" xyz="0 0 0"/>
    </collision>
    <inertial>
      <origin rpy="0 0 0" xyz="0 0 0"/>
      <mass value="0.0258"/>
      <inertia ixx="0" ixy="0" ixz="0" iyy="0" iyz="0" izz="0"/>
    </inertial>
  </link>
  <!-- Gazebo properties -->
  <gazebo reference="CR_foot_link">
    <mu1>1.6</mu1>
    <mu2>1.6</mu2>
    <kp>1000000.0</kp>
    <kd>100.0</kd>
    <material>Gazebo/Grey</material>
    <!-- 			<selfCollide>True</selfCollide> -->
    <!-- 			<gravity>True</gravity> -->
  </gazebo>
  <!-- Foot joint -->
  <joint name="CR_foot_joint" type="fixed">
    <!-- old without optoforce sensors xyz="1.521 0.12 0" -->
    <!-- new with optoforce sensors xyz="1.565 0.12 0" -->
    <origin rpy="0 0 0" xyz="0.343 -0.015 0"/>
    <parent link="CR_tibia_link"/>
    <child link="CR_foot_link"/>
    <axis xyz="0 0 0"/>
  </joint>
  <!-- Body Coxa link -->
  <link name="CL_body_coxa_link">
    <visual>
      <origin rpy="0 0 0" xyz="0 0 0"/>
      <geometry>
        <!-- Normal corner configuration (AR & CL) -->
        <mesh filename="package://meshes/ASM_Body_Coxa_AR.dae"/>
      </geometry>
      <material name="blue">
        <color rgba="0 0 .8 1"/>
      </material>
    </visual>
    <collision>
      <origin rpy="0 0 0" xyz="0 -0.075 -0.015"/>
      <geometry>
        <box size="0.060 0.150 0.120"/>
        <!--<mesh filename="${meshes_path}/ASM_Body_Coxa_.dae" />-->
      </geometry>
    </collision>
    <inertial>
      <origin rpy="0 0 0" xyz="-0.05787 -0.09098 -0.02347"/>
      <mass value="1.49648"/>
      <inertia ixx="0.00237058393" ixy="-0.00037947708" ixz="0.00030252466" iyy="0.00404381682" iyz="-0.00014024756" izz="0.00433874382"/>
    </inertial>
  </link>
  <!-- Gazebo properties -->
  <gazebo reference="CL_body_coxa_link">
    <mu1>1.6</mu1>
    <mu2>1.6</mu2>
    <kp>1000000.0</kp>
    <kd>100.0</kd>
    <material>Gazebo/Blue</material>
    <selfCollide>True</selfCollide>
    <gravity>True</gravity>
  </gazebo>
  <!-- Body Coxa joint -->
  <joint name="CLbody_coxa_joint" type="fixed">
    <origin rpy="0 0 3.1416" xyz="-0.3 0.0 0.0"/>
    <parent link="base_link"/>
    <child link="CL_body_coxa_link"/>
  </joint>
  <!-- Coxa link -->
  <link name="CL_coxa_link">
    <visual>
      <origin rpy="0 0 0" xyz="0 0 0"/>
      <geometry>
        <mesh filename="package://meshes/ASM_Coxa.dae"/>
      </geometry>
      <material name="white">
        <color rgba="1 1 1 1"/>
      </material>
    </visual>
    <collision>
      <origin rpy="0 0 0" xyz="0.032 0 0.062"/>
      <geometry>
        <box size="0.096 0.115 0.206"/>
        <!--<mesh filename="${meshes_path}/ASM_Coxa.dae" />-->
      </geometry>
    </collision>
    <inertial>
      <origin rpy="0 0 0" xyz="0.02698 -0.00028 0.0643"/>
      <mass value="2.40582"/>
      <inertia ixx="0.01288731354" ixy="-4.028532e-05" ixz="0.00060423369" iyy="0.0125301198" iyz="-4.000394e-05" izz="0.00456150593"/>
    </inertial>
  </link>
  <!-- Gazebo properties -->
  <gazebo reference="CL_coxa_link">
    <mu1>1.6</mu1>
    <mu2>1.6</mu2>
    <kp>1000000.0</kp>
    <kd>100.0</kd>
    <material>Gazebo/White</material>
    <selfCollide>True</selfCollide>
    <gravity>True</gravity>
  </gazebo>
  <!-- Coxa joint -->
  <joint name="CL_coxa_joint" type="revolute">
    <origin rpy="0.0 0.0 4.7123" xyz="0.0 -0.150 0.040"/>
    <parent link="CL_body_coxa_link"/>
    <child link="CL_coxa_link"/>
    <axis xyz="0 0 1"/>
    <!-- Normal corner configuration (AR & CL) -->
    <limit effort="75.0" lower="-0.6" upper="0.9" velocity="11.0"/>
    <dynamics damping="0.5" friction="0.0"/>
  </joint>
  <transmission name="CL_coxa_tran">
    <type>transmission_interface/SimpleTransmission</type>
    <joint name="CL_coxa_joint">
      <hardwareInterface>hardware_interface/EffortJointInterface</hardwareInterface>
    </joint>
    <actuator name="CL_coxa_motor">
      <hardwareInterface>hardware_interface/EffortJointInterface</hardwareInterface>
      <mechanicalReduction>1</mechanicalReduction>
    </actuator>
  </transmission>
  <!-- Femur link -->
  <link name="CL_femur_link">
    <visual>
      <origin rpy="0 0 0" xyz="0 0 0"/>
      <geometry>
        <mesh filename="package://meshes/ASM_Femur.dae"/>
      </geometry>
      <material name="orange">
        <color rgba="1 0.6 0 1"/>
      </material>
    </visual>
    <collision>
      <origin rpy="0 0 0" xyz="0.120 0.034 0.0"/>
      <geometry>
        <box size="0.240 0.112 0.115"/>
        <!-- <mesh filename="${meshes_path}/ASM_Femur.dae" /> -->
      </geometry>
    </collision>
    <inertial>
      <origin rpy="0 0 0" xyz="0.09968 0.02632 0.00017"/>
      <mass value="1.59736"/>
      <inertia ixx="0.00220546264" ixy="-0.00018851889" ixz="6.874375e-05" iyy="0.00860408815" iyz="-2.201149e-05" izz="0.00924003917"/>
    </inertial>
  </link>
  <!-- Gazebo properties -->
  <gazebo reference="CL_femur_link">
    <mu1>1.6</mu1>
    <mu2>1.6</mu2>
    <kp>1000000.0</kp>
    <kd>100.0</kd>
    <material>Gazebo/Orange</material>
    <selfCollide>True</selfCollide>
    <gravity>True</gravity>
  </gazebo>
  <!-- Femur joint -->
  <joint name="CL_femur_joint" type="revolute">
    <origin rpy="-1.5708 0 0" xyz="0.08 0 0.0"/>
    <parent link="CL_coxa_link"/>
    <child link="CL_femur_link"/>
    <axis xyz="0 0 1"/>
    <limit effort="75.0" lower="-1.1" upper="0.6" velocity="8.0"/>
    <dynamics damping="0.5" friction="0.0"/>
  </joint>
  <transmission name="CL_femur_tran">
    <type>transmission_interface/SimpleTransmission</type>
    <joint name="CL_femur_joint">
      <hardwareInterface>hardware_interface/EffortJointInterface</hardwareInterface>
    </joint>
    <actuator name="CL_femur_motor">
      <hardwareInterface>hardware_interface/EffortJointInterface</hardwareInterface>
      <mechanicalReduction>1</mechanicalReduction>
    </actuator>
  </transmission>
  <!-- Tibia link -->
  <link name="CL_tibia_link">
    <visual>
      <origin rpy="0 0 0" xyz="0 0 0"/>
      <geometry>
        <mesh filename="package://meshes/ASM_Tibia.dae"/>
      </geometry>
      <material name="grey">
        <color rgba="0.5 0.5 0.5 1"/>
      </material>
    </visual>
    <collision name="CL_tibia_link_collision">
      <origin rpy="0 1.5708 0" xyz="0.164 -0.015 0"/>
      <geometry>
        <cylinder length="0.244" radius="0.016"/>
        <!--<mesh filename="${meshes_path}/ASM_Tibia.dae" />-->
      </geometry>
    </collision>
    <inertial>
      <origin rpy="0 0 0" xyz="0.0675 -0.00776 0.00154"/>
      <mass value="0.4159"/>
      <inertia ixx="0.00040546855" ixy="-0.00020546604" ixz="-4.283075e-05" iyy="0.00584163406" iyz="4.84805e-06" izz="0.00560713232"/>
    </inertial>
  </link>
  <!-- Gazebo properties -->
  <gazebo reference="CL_tibia_link">
    <mu1>1.6</mu1>
    <mu2>1.6</mu2>
    <kp>1000000.0</kp>
    <kd>100.0</kd>
    <material>Gazebo/Grey</material>
    <!-- 			<selfCollide>True</selfCollide> -->
    <!-- 			<gravity>True</gravity> -->
  </gazebo>
  <!-- Tibia joint -->
  <joint name="CL_tibia_joint" type="revolute">
    <origin rpy="0 0 0" xyz="0.275 0 0"/>
    <parent link="CL_femur_link"/>
    <child link="CL_tibia_link"/>
    <axis xyz="0 0 1"/>
    <limit effort="75.0" lower="0.4" upper="2.4" velocity="11.0"/>
    <dynamics damping="0.5" friction="0.0"/>
  </joint>
  <transmission name="CL_tibia_tran">
    <type>transmission_interface/SimpleTransmission</type>
    <joint name="CL_tibia_joint">
      <hardwareInterface>hardware_interface/EffortJointInterface</hardwareInterface>
    </joint>
    <actuator name="CL_tibia_motor">
      <hardwareInterface>hardware_interface/EffortJointInterface</hardwareInterface>
      <mechanicalReduction>1</mechanicalReduction>
    </actuator>
  </transmission>
  <!-- Foot link, use sphere for enhancening collision properties, speeds up simulation! -->
  <link name="CL_foot_link">
    <visual>
      <geometry>
        <!--<mesh filename="${meshes_path}/AL_foot_link.dae" />-->
        <sphere radius="0.02"/>
        <!-- <sphere radius="0.03"/> -->
        <!-- <box size="0.05, 0.05, 0.05"/> -->
        <!-- <cylinder length="0.16" radius="0.035"/> -->
      </geometry>
      <origin rpy="0 0 0" xyz="0 0 0"/>
      <material name="grey">
        <color rgba="0.5 0.5 0.5 1"/>
      </material>
    </visual>
    <collision name="CL_foot_link_collision">
      <geometry>
        <sphere radius="0.02"/>
        <!-- <sphere radius="0.03"/> -->
        <!-- <box size="0.05, 0.05, 0.05"/> -->
        <!-- <cylinder length="0.16" radius="0.035"/> -->
      </geometry>
      <origin rpy="0 0 0" xyz="0 0 0"/>
    </collision>
    <inertial>
      <origin rpy="0 0 0" xyz="0 0 0"/>
      <mass value="0.0258"/>
      <inertia ixx="0" ixy="0" ixz="0" iyy="0" iyz="0" izz="0"/>
    </inertial>
  </link>
  <!-- Gazebo properties -->
  <gazebo reference="CL_foot_link">
    <mu1>1.6</mu1>
    <mu2>1.6</mu2>
    <kp>1000000.0</kp>
    <kd>100.0</kd>
    <material>Gazebo/Grey</material>
    <!-- 			<selfCollide>True</selfCollide> -->
    <!-- 			<gravity>True</gravity> -->
  </gazebo>
  <!-- Foot joint -->
  <joint name="CL_foot_joint" type="fixed">
    <!-- old without optoforce sensors xyz="1.521 0.12 0" -->
    <!-- new with optoforce sensors xyz="1.565 0.12 0" -->
    <origin rpy="0 0 0" xyz="0.343 -0.015 0"/>
    <parent link="CL_tibia_link"/>
    <child link="CL_foot_link"/>
    <axis xyz="0 0 0"/>
  </joint>
  <!-- Import  Sensor payload (or imu only if no payload required)
  <xacro:unless value="$(arg gen_vertical_teststand)">
    <xacro:if value="$(arg gen_payload)">
      <xacro:include filename="$(find nav_backpack)/models/nav_backpack/model.urdf.xacro"/>
      <nav_backpack enable_lights="$(arg enable_lights)" namespace="$(arg nav_namespace)" parent="base_link">
        <origin xyz="0.22 0 0.141" rpy="0 0 0"/>
      </nav_backpack>
    </xacro:if>
    <xacro:unless value="$(arg gen_payload)">
      <xacro:include filename="$(find darpa_subt_hexapod)/robots/apptronik_xacro/imu_payload.xacro"/>
    </xacro:unless>
  </xacro:unless> -->
</robot>
